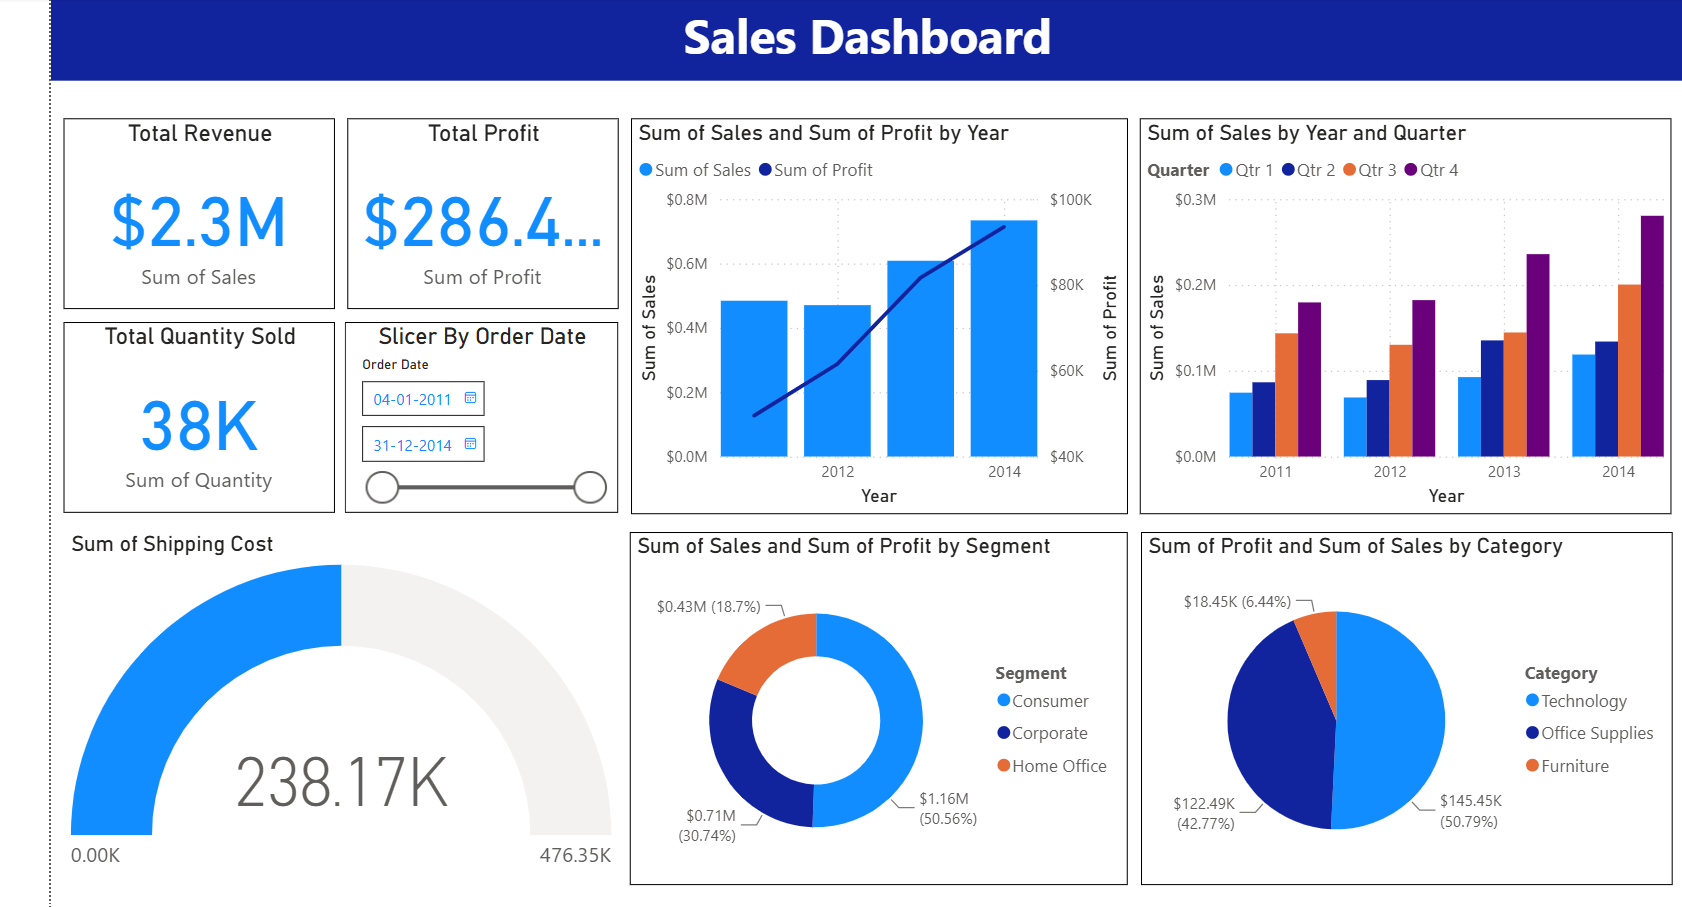

The page's visual inventory and layout, read from the dashboard file:
{"tool":"powerbi","page":{"name":"Overall Sales","canvas":[1280,720],"ordinal":0},"visuals":[{"type":"textbox","box":[0,0,1280.3,65.9],"z":0},{"type":"card","title":"Total Revenue","fields":{"Values":["Sum(Orders.Sales)"]},"box":[9.6,94.7,212.7,149.6],"z":1000},{"type":"card","title":"Total Quantity Sold","fields":{"Values":["Sum(Orders.Quantity)"]},"box":[9.6,255.2,212.7,149.6],"z":2000},{"type":"card","title":"Total Profit","fields":{"Values":["Sum(Orders.Profit)"]},"box":[231.9,94.7,212.7,149.6],"z":3000},{"type":"slicer","title":"Slicer By Order Date","fields":{"Values":["Orders.Order Date"]},"box":[230.5,255.2,214.1,149.6],"z":4000},{"type":"lineStackedColumnComboChart","fields":{"Category":["Orders.Order Date.Variation.Date Hierarchy.Year","Orders.Order Date.Variation.Date Hierarchy.Quarter","Orders.Order Date.Variation.Date Hierarchy.Month","Orders.Order Date.Variation.Date Hierarchy.Day"],"Y":["Sum(Orders.Sales)"],"Y2":["Sum(Orders.Profit)"]},"box":[454.2,94.7,389.7,310.1],"z":5000},{"type":"clusteredColumnChart","fields":{"Category":["Orders.Year"],"Series":["Orders.Quarter"],"Y":["Sum(Orders.Sales)"]},"box":[853.5,94.7,417.2,310.1],"z":6000},{"type":"donutChart","fields":{"Category":["Orders.Segment"],"Y":["Sum(Orders.Sales)"]},"box":[454,419,390,277],"z":8000},{"type":"pieChart","fields":{"Y":["Sum(Orders.Profit)"],"Category":["Orders.Category"]},"box":[854,419,417,277],"z":9000},{"type":"gauge","fields":{"Y":["Sum(Orders.Shipping Cost)"]},"box":[10.5,418.6,433.7,277.9],"z":9001}]}

Visuals, with their boxes in screenshot pixels (x1, y1, x2, y2):
textbox: {"x1": 35, "y1": 0, "x2": 1681, "y2": 76}
"Total Revenue" card: {"x1": 47, "y1": 113, "x2": 321, "y2": 306}
"Total Quantity Sold" card: {"x1": 47, "y1": 320, "x2": 321, "y2": 512}
"Total Profit" card: {"x1": 334, "y1": 113, "x2": 607, "y2": 306}
"Slicer By Order Date" slicer: {"x1": 332, "y1": 320, "x2": 607, "y2": 512}
lineStackedColumnComboChart - Orders.Order Date.Variation.Date Hierarchy.Year x Orders.Order Date.Variation.Date Hierarchy.Quarter: {"x1": 620, "y1": 113, "x2": 1122, "y2": 512}
clusteredColumnChart - Orders.Year x Orders.Quarter: {"x1": 1134, "y1": 113, "x2": 1671, "y2": 512}
donutChart - Orders.Segment x Sum(Orders.Sales): {"x1": 620, "y1": 531, "x2": 1122, "y2": 887}
pieChart - Sum(Orders.Profit) x Orders.Category: {"x1": 1135, "y1": 531, "x2": 1672, "y2": 887}
gauge - Sum(Orders.Shipping Cost): {"x1": 49, "y1": 530, "x2": 607, "y2": 888}
